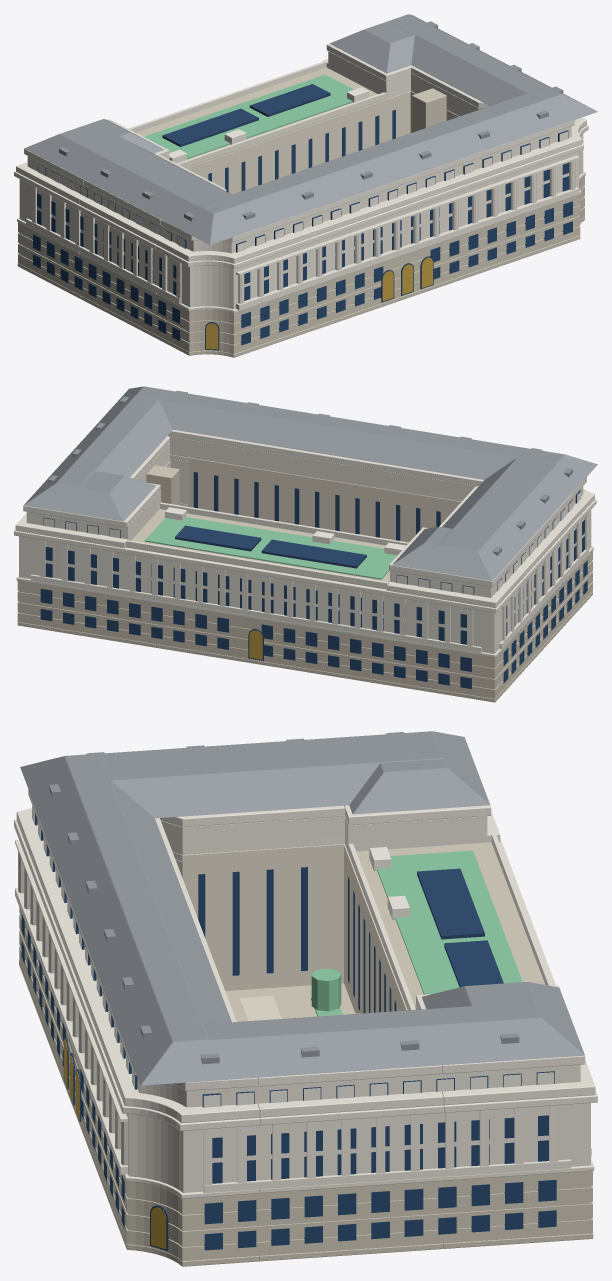
File: 50-united-nations-plaza.glb
3 views of the same model, one above another, from view 1: azimuth 30°, elevation 25°; view 2: azimuth 150°, elevation 25°; view 3: azimuth 270°, elevation 25° (orthographic). The views are drawn at different scales.
Parts seen in each view (by area): view 1: roof_s, roof_w, body_south, court_liner_n, roof_e, balus_south, green_nc, base_south_top, base_south_0, attic_south, base_south_2, base_south_1 (+36 smaller); view 2: roof_s, body_north, court_liner_s, roof_w, roof_e, attic_south, green_nc, base_north_0, base_north_top, base_north_1, base_north_2, roof_ne (+25 smaller); view 3: roof_s, roof_e, roof_w, court_liner_w, green_nc, balus_south, roof_ne, roof_nw, body_south, deck_nc, body_east, body_north (+48 smaller).
Part boxes in pixels (x1=…): roof_s: x1=164, y1=86, x2=597, y2=244; roof_w: x1=25, y1=122, x2=276, y2=243; body_south: x1=158, y1=134, x2=583, y2=309; court_liner_n: x1=186, y1=91, x2=410, y2=194; roof_e: x1=389, y1=14, x2=597, y2=131; balus_south: x1=156, y1=117, x2=586, y2=263; green_nc: x1=144, y1=74, x2=353, y2=159; base_south_top: x1=157, y1=176, x2=584, y2=322; base_south_0: x1=157, y1=207, x2=584, y2=353; attic_south: x1=162, y1=120, x2=575, y2=253; base_south_2: x1=157, y1=186, x2=584, y2=333; base_south_1: x1=157, y1=197, x2=584, y2=343; roof_s: x1=103, y1=386, x2=597, y2=493; body_north: x1=19, y1=536, x2=526, y2=653; court_liner_s: x1=188, y1=457, x2=460, y2=542; roof_w: x1=407, y1=458, x2=595, y2=580; roof_e: x1=23, y1=386, x2=172, y2=516; attic_south: x1=168, y1=436, x2=583, y2=512; green_nc: x1=144, y1=517, x2=396, y2=579; base_north_0: x1=17, y1=612, x2=530, y2=698; base_north_top: x1=17, y1=580, x2=530, y2=667; base_north_1: x1=17, y1=602, x2=530, y2=688; base_north_2: x1=17, y1=591, x2=530, y2=678; roof_ne: x1=24, y1=467, x2=156, y2=521; roof_s: x1=20, y1=753, x2=250, y2=1085; roof_e: x1=123, y1=1002, x2=584, y2=1085; roof_w: x1=21, y1=731, x2=486, y2=818; court_liner_w: x1=182, y1=844, x2=344, y2=990; green_nc: x1=377, y1=850, x2=522, y2=994; balus_south: x1=16, y1=808, x2=259, y2=1123; roof_ne: x1=422, y1=982, x2=583, y2=1064; roof_nw: x1=349, y1=731, x2=489, y2=814; body_south: x1=126, y1=1114, x2=258, y2=1192; deck_nc: x1=348, y1=842, x2=545, y2=1009; body_east: x1=259, y1=1113, x2=443, y2=1180; body_north: x1=443, y1=1103, x2=590, y2=1166.
Size of the model in its own units: 123 by 33 by 84.9.
